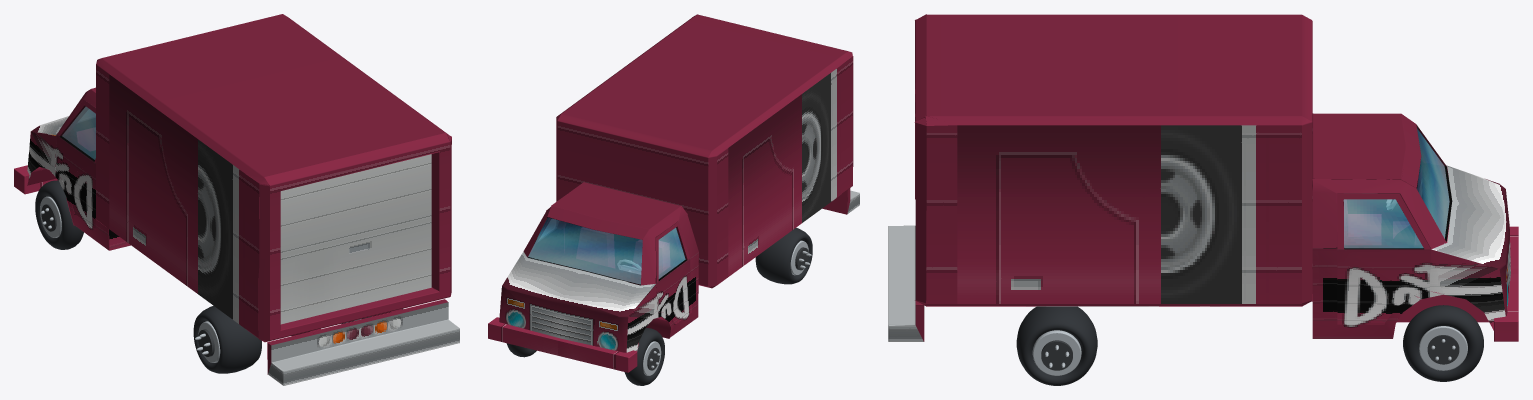
Rendered from car-cduff.glb.
3 renders of one model, left to right at view 1: azimuth 30°, elevation 25°; view 2: azimuth 150°, elevation 25°; view 3: azimuth 270°, elevation 25°, orthographic. The views are drawn at different scales.
Parts seen in each view (by area): view 1: cDuffShape.001, cDuffShape, cDuffShape.002, DoorDRotShape.028, Rounded tire.050, Rounded tire.051, DoorDRotShape.029, cDuffShape.003, Alloy rim.051; view 2: cDuffShape.001, cDuffShape.002, cDuffShape.003, cDuffShape.004, DoorDRotShape.028, Rounded tire.050, Rounded tire.051, DoorDRotShape.029, DoorPRotShape.030; view 3: cDuffShape.002, cDuffShape.001, cDuffShape.003, DoorPRotShape.031, Rounded tire.049, cDuffShape, DoorPRotShape.032, Rounded tire.048, cDuffShape.004, DoorPRotShape.030, DoorDRotShape.028, Alloy rim.049 (+3 smaller).
Boxes of the visible parts, box(x1,y1,x2,y2) form: cDuffShape.001: box(27, 14, 451, 374); cDuffShape: box(268, 154, 459, 385); cDuffShape.002: box(109, 74, 245, 328); DoorDRotShape.028: box(55, 100, 95, 228); Rounded tire.050: box(193, 306, 261, 373); Rounded tire.051: box(35, 180, 83, 249); DoorDRotShape.029: box(62, 106, 95, 159); cDuffShape.003: box(14, 116, 68, 194); Alloy rim.051: box(40, 196, 61, 237); cDuffShape.001: box(524, 14, 853, 352); cDuffShape.002: box(617, 65, 841, 282); cDuffShape.003: box(488, 251, 655, 372); cDuffShape.004: box(527, 217, 642, 284); DoorDRotShape.028: box(650, 221, 691, 324); Rounded tire.050: box(755, 227, 812, 284); Rounded tire.051: box(624, 328, 664, 385); DoorDRotShape.029: box(658, 227, 685, 278); DoorPRotShape.030: box(523, 218, 564, 255); cDuffShape.002: box(926, 125, 1505, 338); cDuffShape.001: box(914, 14, 1488, 341); cDuffShape.003: box(1431, 165, 1518, 341); DoorPRotShape.031: box(1337, 249, 1431, 324); Rounded tire.049: box(1016, 306, 1097, 385); cDuffShape: box(888, 225, 923, 341); DoorPRotShape.032: box(1343, 199, 1423, 248); Rounded tire.048: box(1403, 305, 1483, 381); cDuffShape.004: box(1417, 128, 1449, 243); DoorPRotShape.030: box(1337, 193, 1430, 249); DoorDRotShape.028: box(1347, 152, 1430, 237); Alloy rim.049: box(1032, 330, 1081, 375).
Bounding box in the file's own units: 2.93 × 3.38 × 7.
Materials: 8 (5 with a texture image).
